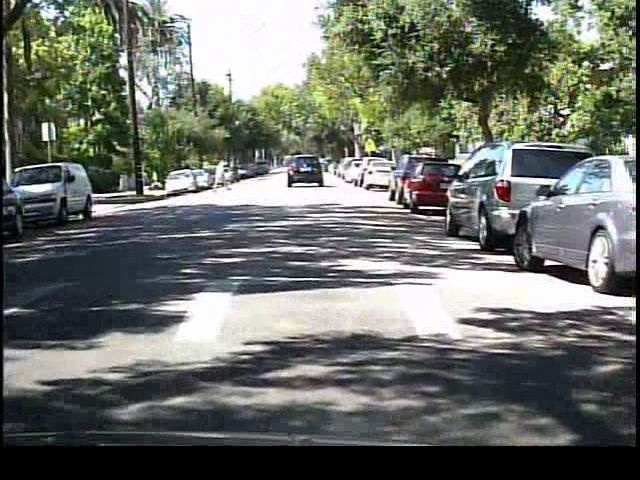person: (212, 155, 232, 195)
